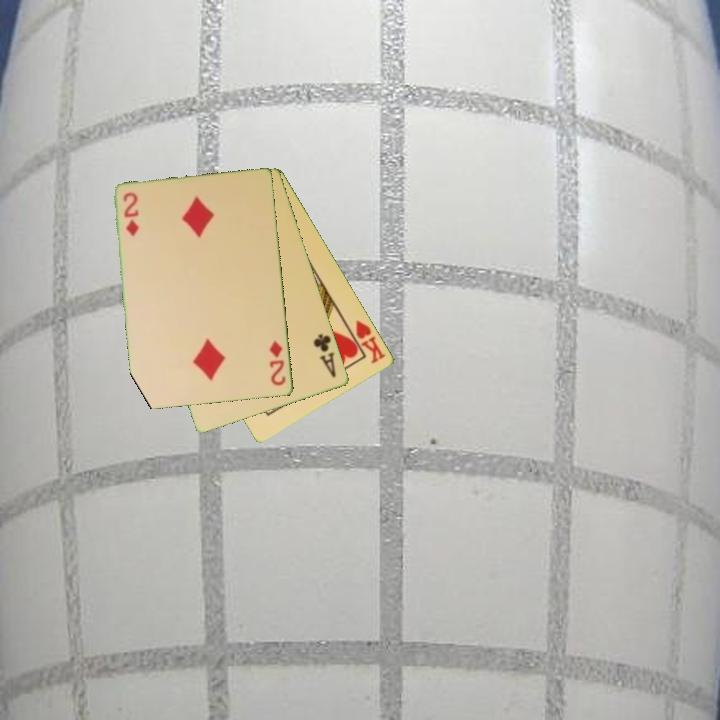2d: (266, 337, 289, 389), (120, 189, 142, 239)
Ac: (310, 330, 339, 381)
Kh: (343, 317, 389, 367)
